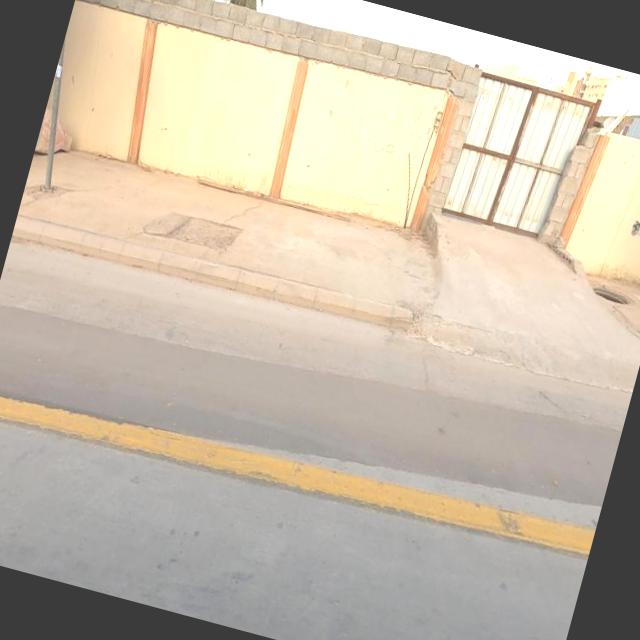debris: (278, 20, 489, 223)
